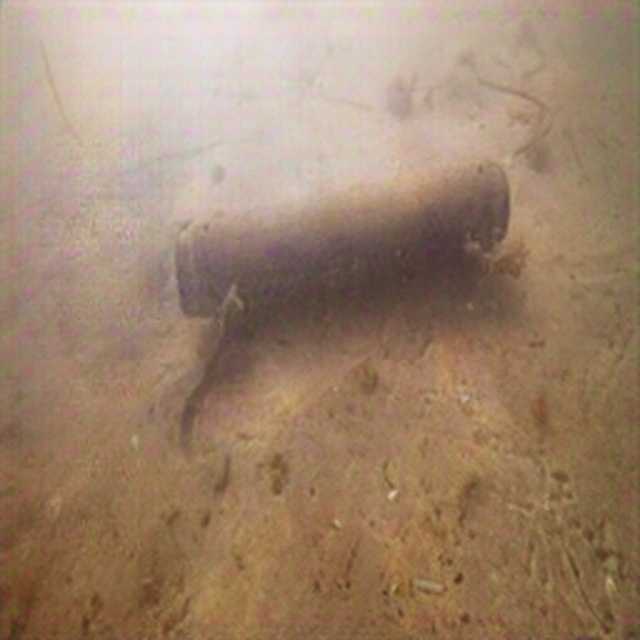mine: (172, 154, 511, 325)
